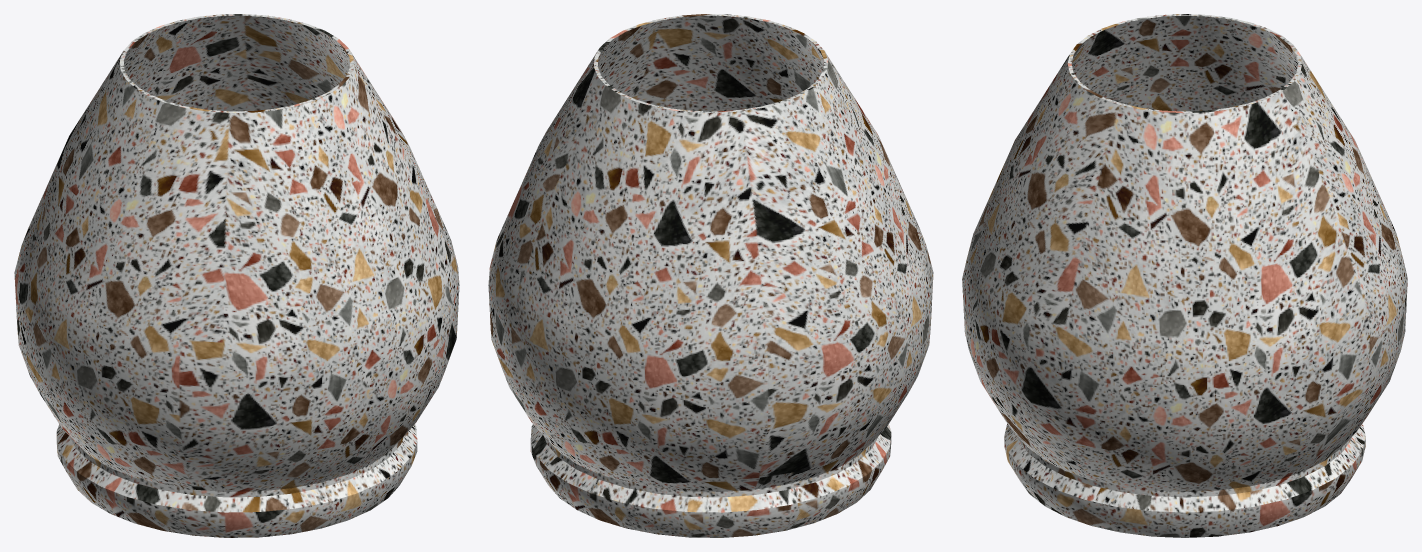
File: KitchenFlowerVase.001.fbx
The picture shows the model from 3 angles, left to right: view 1: azimuth 30°, elevation 25°; view 2: azimuth 150°, elevation 25°; view 3: azimuth 270°, elevation 25°; orthographic projection.
Visible parts, largest first — view 1: KitchenFlowerVase.001_Baked; view 2: KitchenFlowerVase.001_Baked; view 3: KitchenFlowerVase.001_Baked.
Boxes of the visible parts, x1,y1,x2,y2 form: KitchenFlowerVase.001_Baked: (14,14,459,537); KitchenFlowerVase.001_Baked: (488,14,933,537); KitchenFlowerVase.001_Baked: (962,14,1407,537).
Bounding box in the file's own units: 24.59 × 24.54 × 24.59.
Materials: 1 (1 with a texture image).
